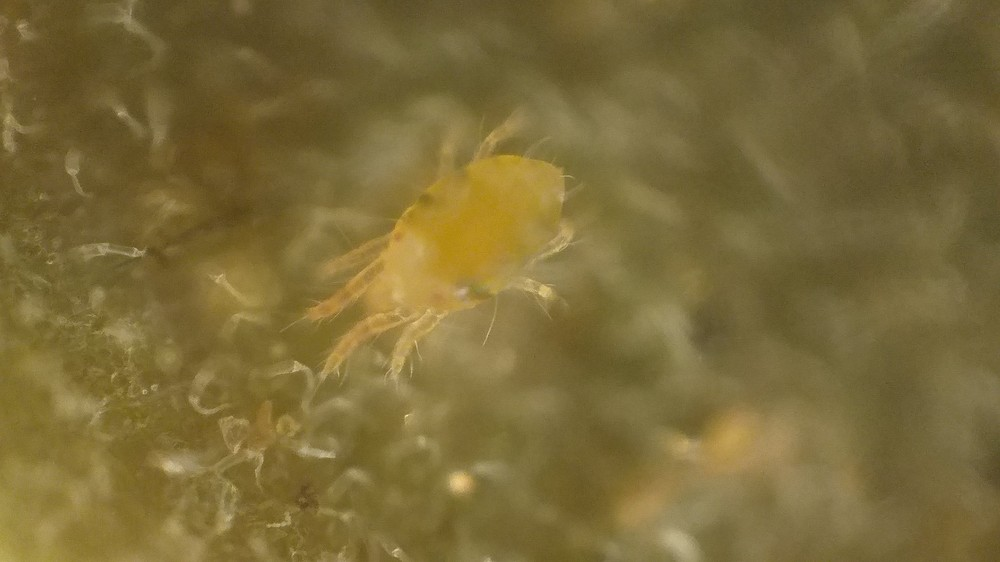Aracnido Rojo: (281, 103, 601, 423)
